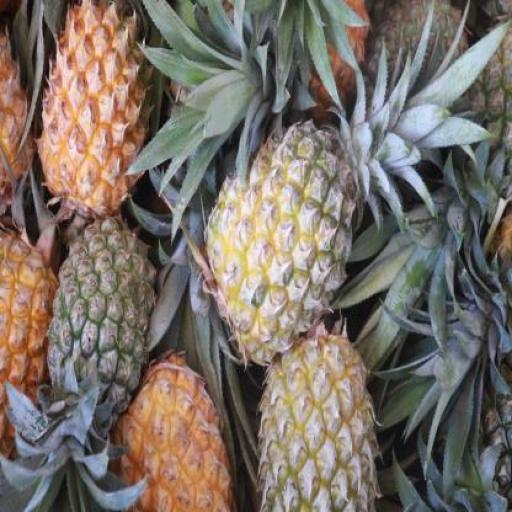------------------------------: (205, 119, 357, 366), (255, 327, 375, 512)
Pineapple - v8 v1: (39, 0, 151, 228), (113, 355, 225, 510)
